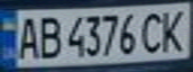3: (81, 11, 103, 57)
4: (63, 11, 84, 57)
6: (118, 10, 142, 56)
7: (100, 11, 121, 56)
A: (12, 12, 42, 60)
B: (33, 12, 63, 60)
C: (139, 8, 166, 55)
K: (157, 6, 190, 54)
